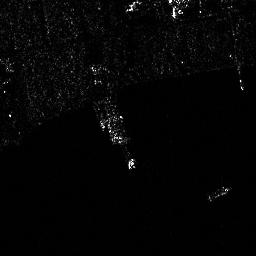ship: (206, 183, 229, 202)
